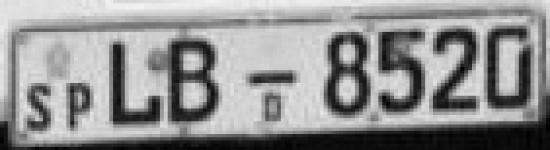-: (242, 66, 302, 94)
0: (482, 21, 537, 116)
2: (430, 21, 482, 114)
5: (376, 25, 428, 115)
8: (317, 26, 375, 122)
B: (166, 36, 224, 123)
L: (102, 40, 167, 126)
P: (59, 78, 97, 134)
S: (21, 79, 58, 133)
